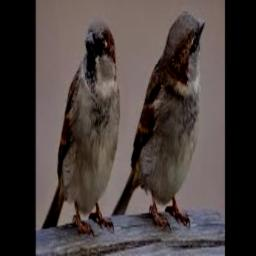Sparrow: (110, 12, 205, 229), (41, 18, 121, 235)
